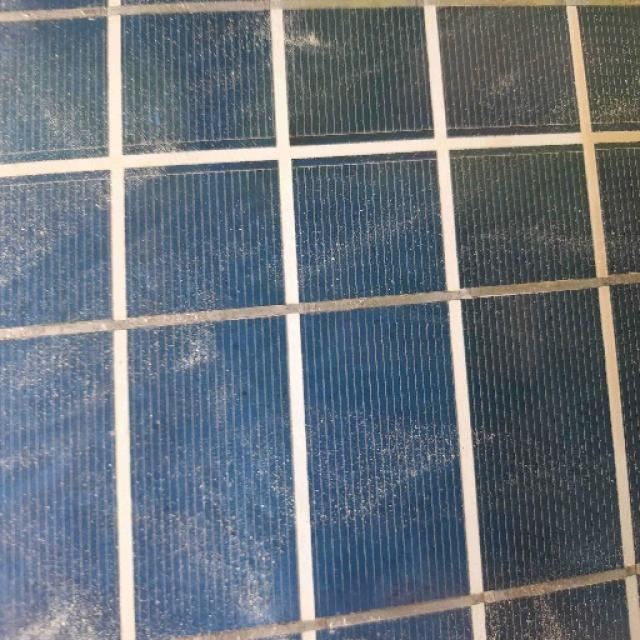Dirty: (0, 29, 640, 640)
